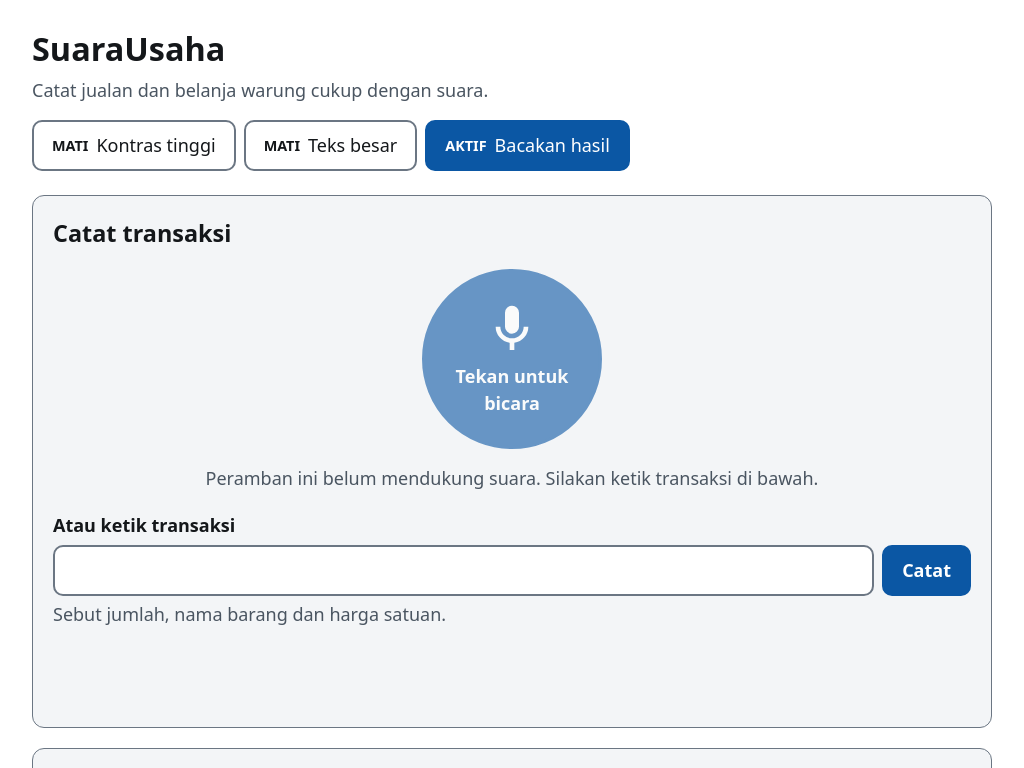
Test: recording by text and keyboard › asks for input instead of sending an empty request
This screenshot has width=1024, height=768.
Click the button "Catat" at {"x": 927, "y": 571}, box x1=882 y1=545 x2=971 y2=596
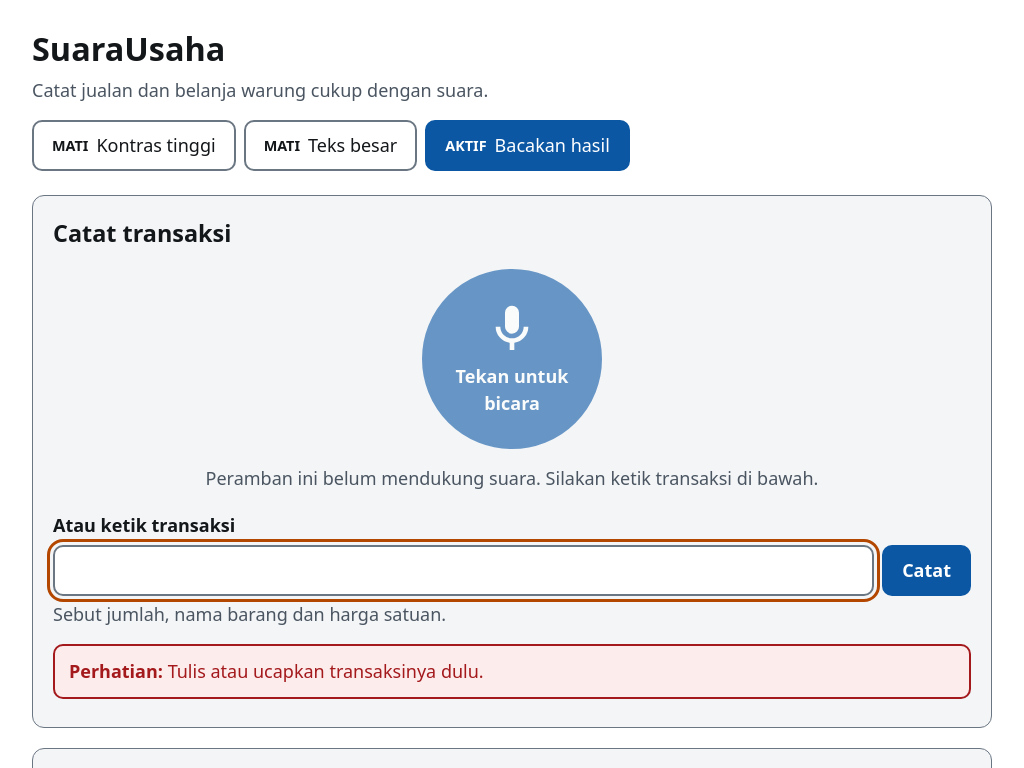
Now the message with test id "live-region" shows "Tulis atau ucapkan transaksinya dulu.", box x1=168 y1=659 x2=484 y2=683
